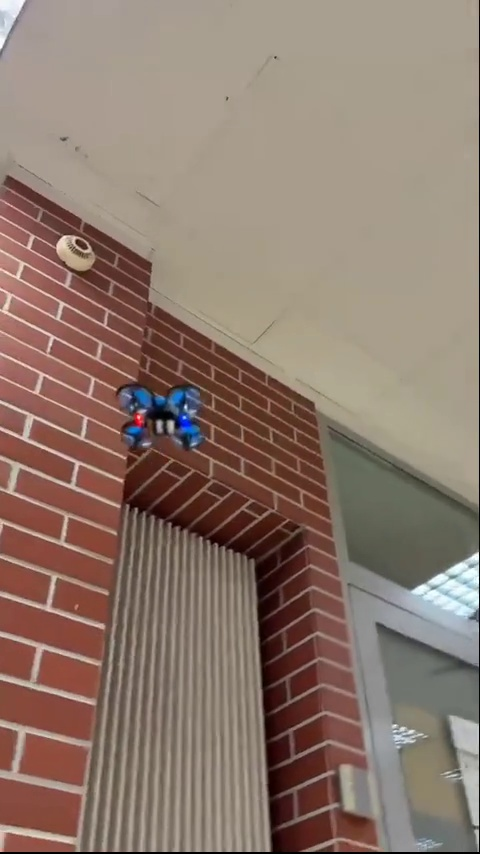drone: (118, 387, 205, 451)
